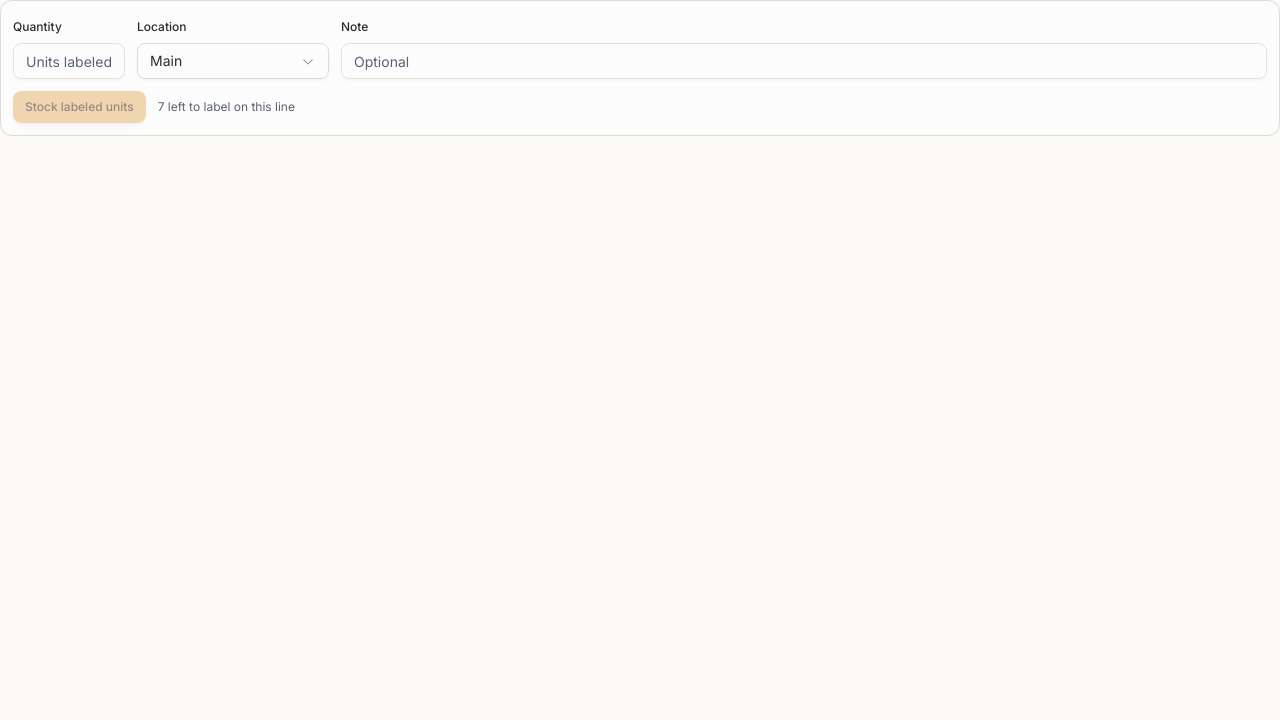
Test: the cost prompt › KEEPS the current cost without writing anything
Type "3" into the field labelled "Quantity". click: (69, 61)
box: left=13, top=43, right=125, bottom=79
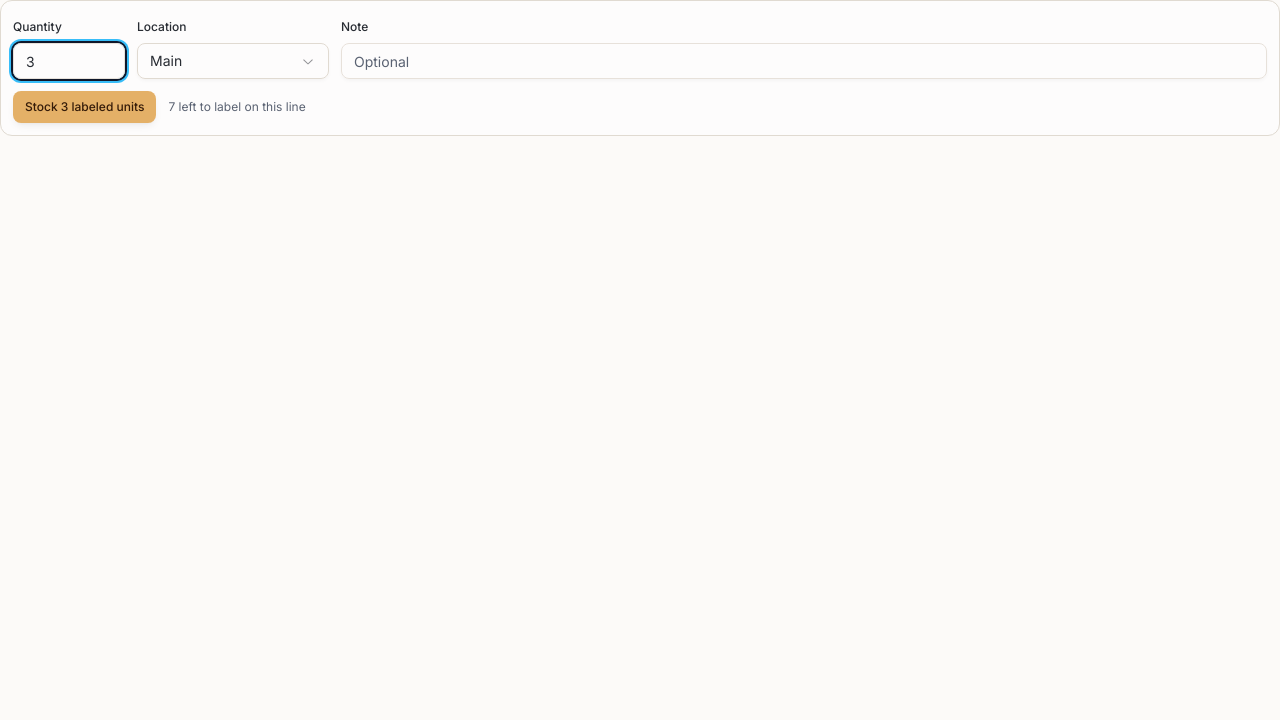
Click the button "Stock 3 labeled units". click: (85, 107)
box: left=13, top=91, right=156, bottom=123
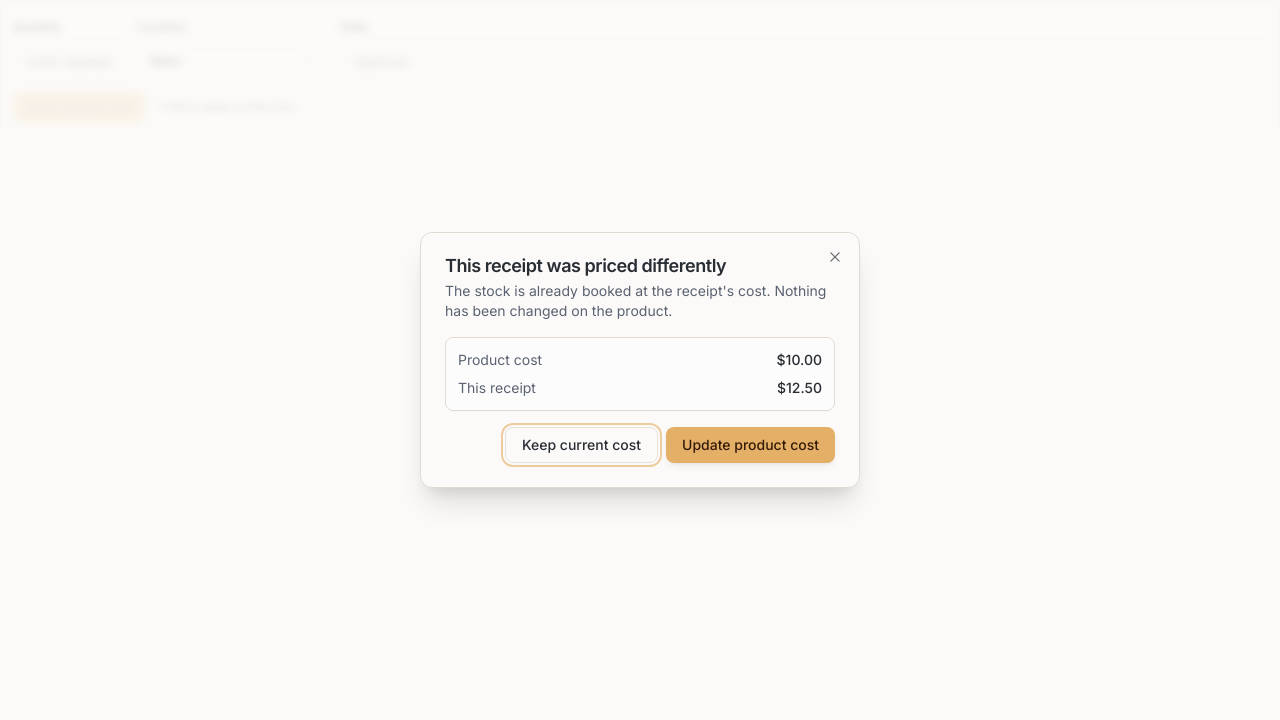
Check: the dialog with test id "cost-prompt" is shown, box left=420, top=232, right=860, bottom=488
Click the button "Keep current cost". click: (581, 445)
box: left=505, top=427, right=658, bottom=463
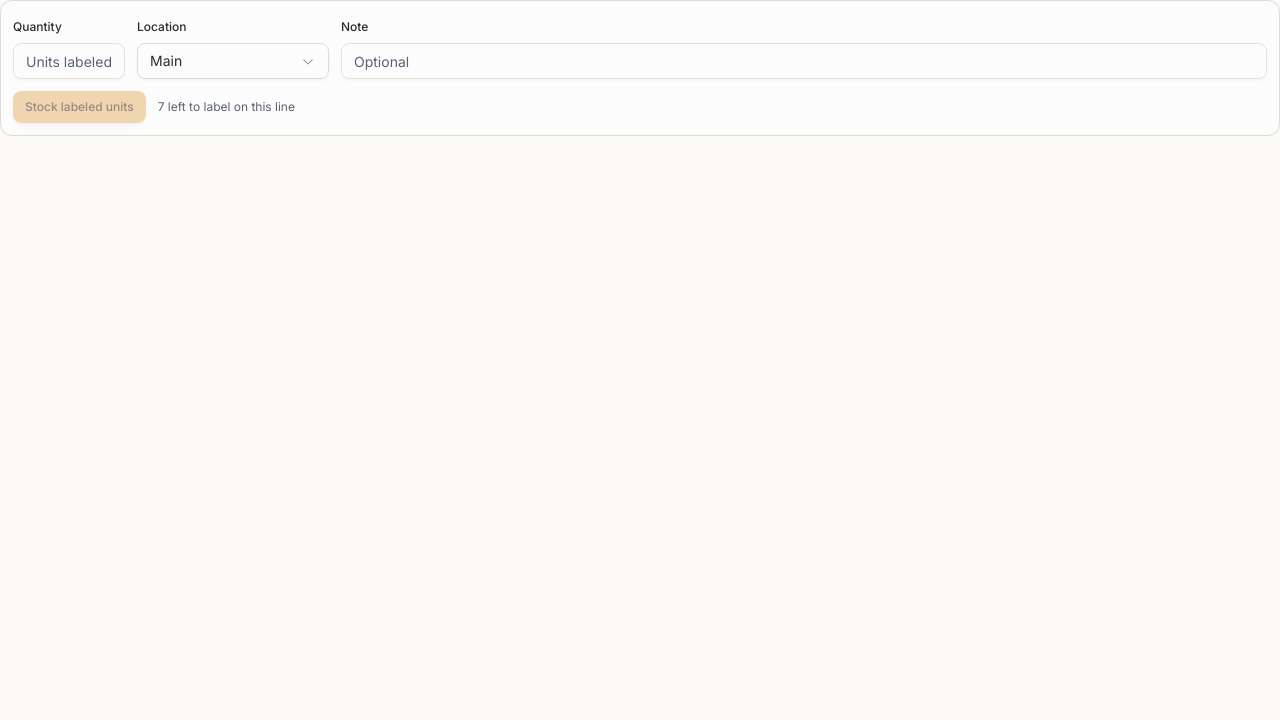
Check: the dialog with test id "cost-prompt" is gone
